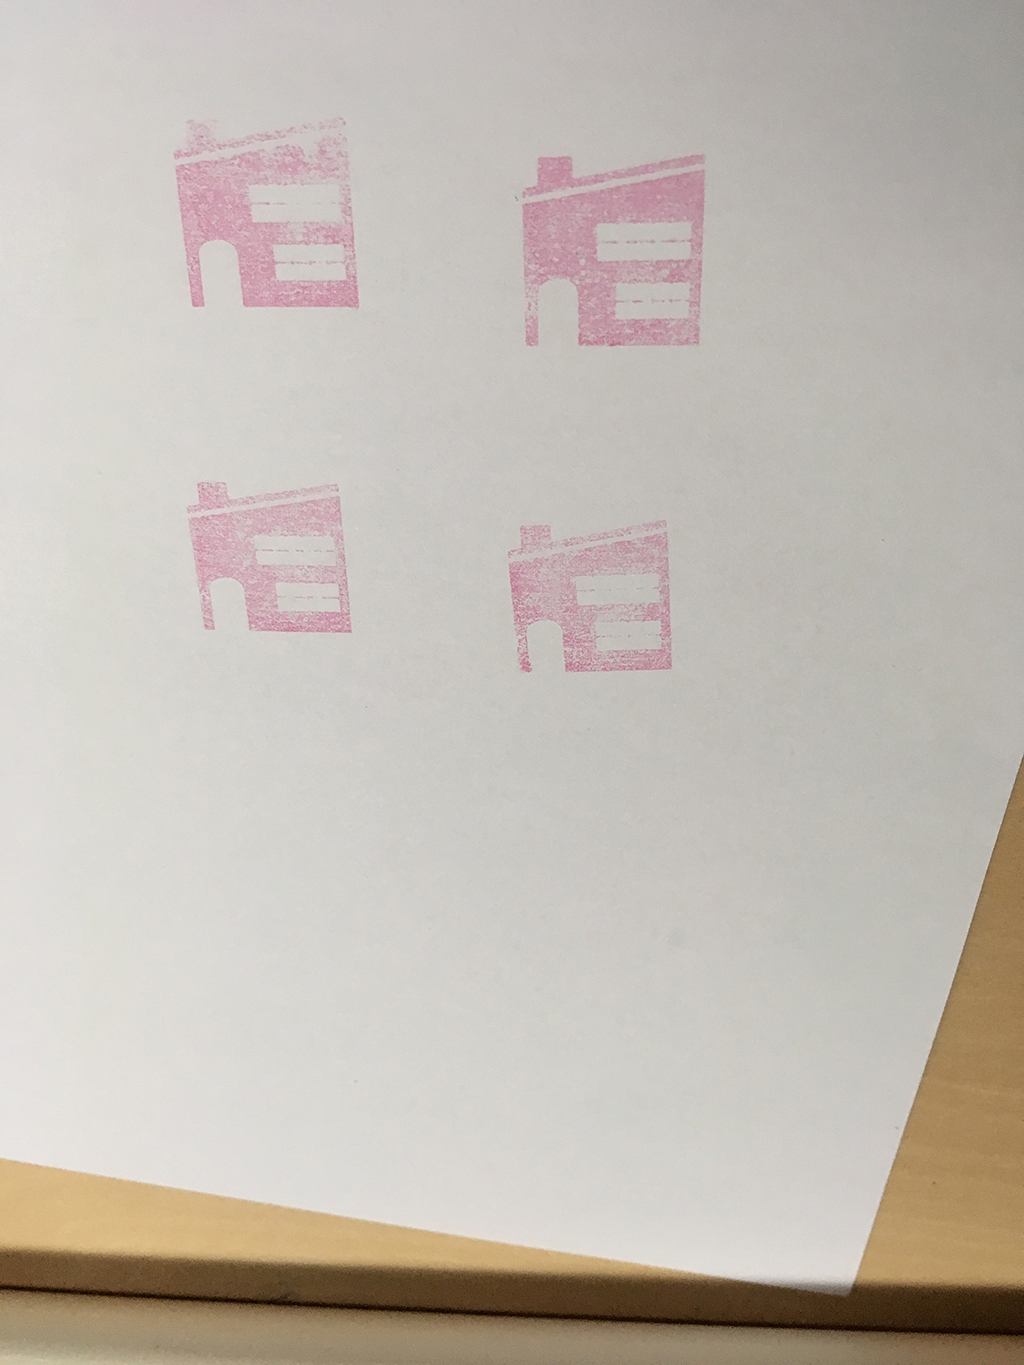house: (504, 138, 723, 362), (166, 104, 374, 327), (174, 463, 374, 652), (494, 502, 685, 694)
